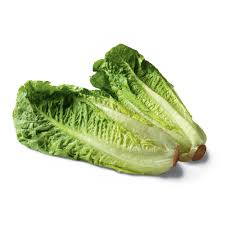lettuce: (11, 47, 203, 178)
